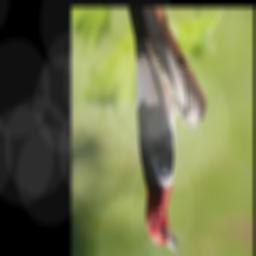Woodpecker: (126, 8, 184, 256)
